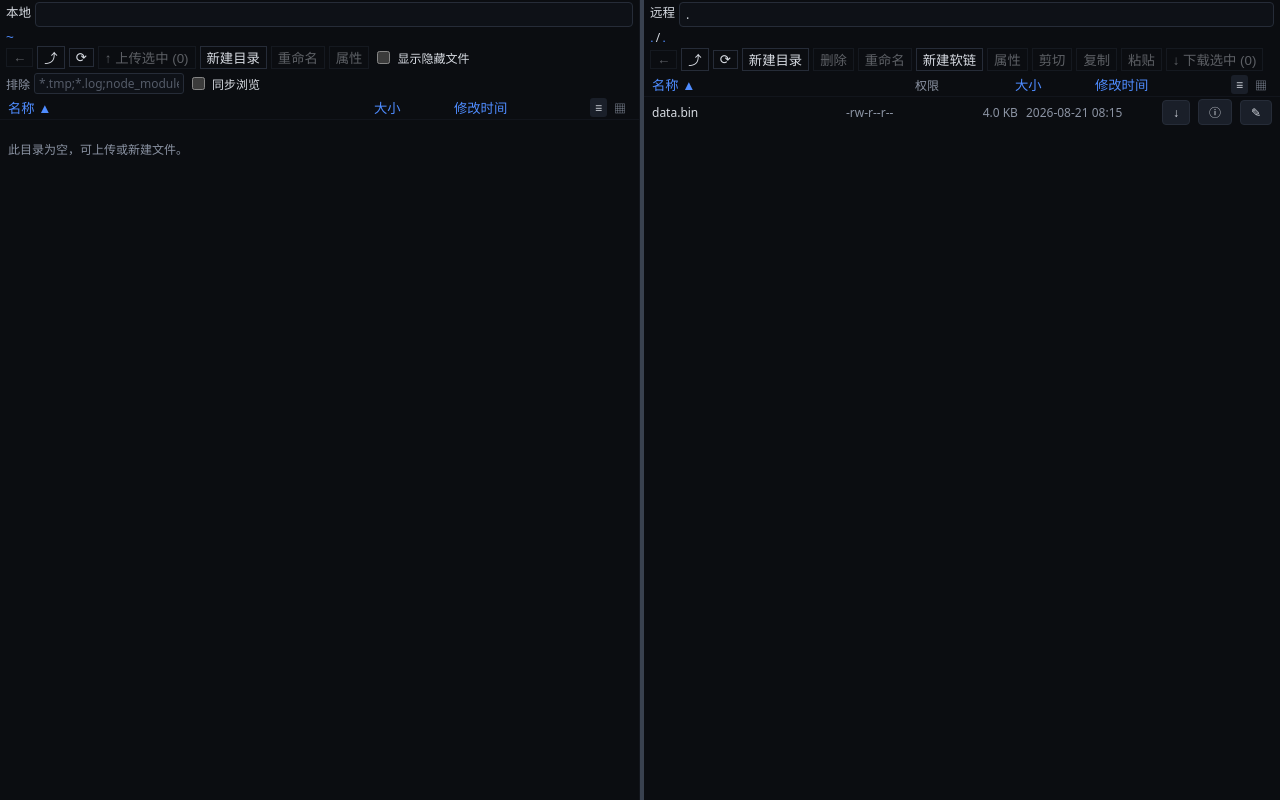
SftpPane 属性对话框与新建软链（M4a） › 属性读取失败：错误显示在对话框内（用户点的是这一项）
This screenshot has width=1280, height=800.
What coordinates should you click on to do the following:
click the option "data.bin -rw-r--r-- 4.0 KB 2026-08-21 08:15 ↓ ⓘ ✎"
I would click on:
 (675, 112)
Its box is [644, 97, 1279, 127].
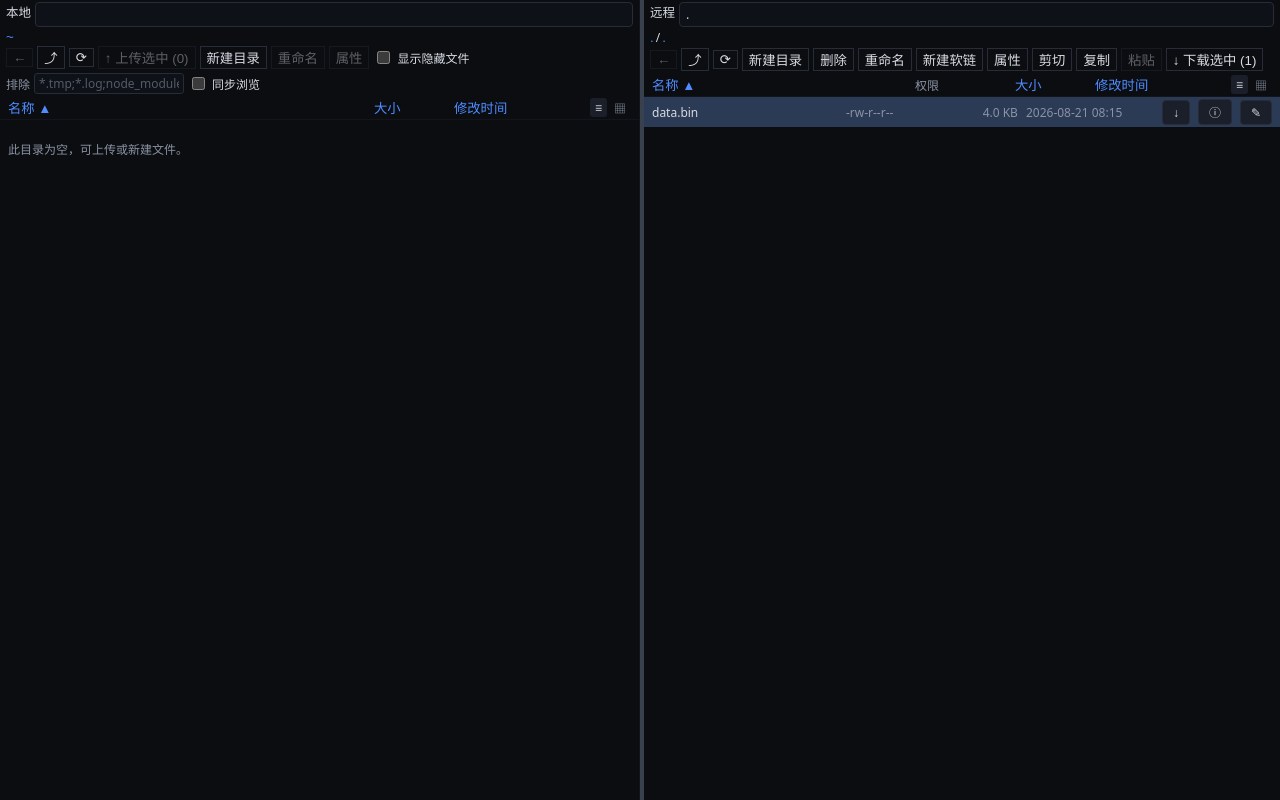
What coordinates should you click on to do the following:
click the button with test id "remote-props"
I would click on:
 (1007, 60)
Its box is [987, 48, 1028, 71].
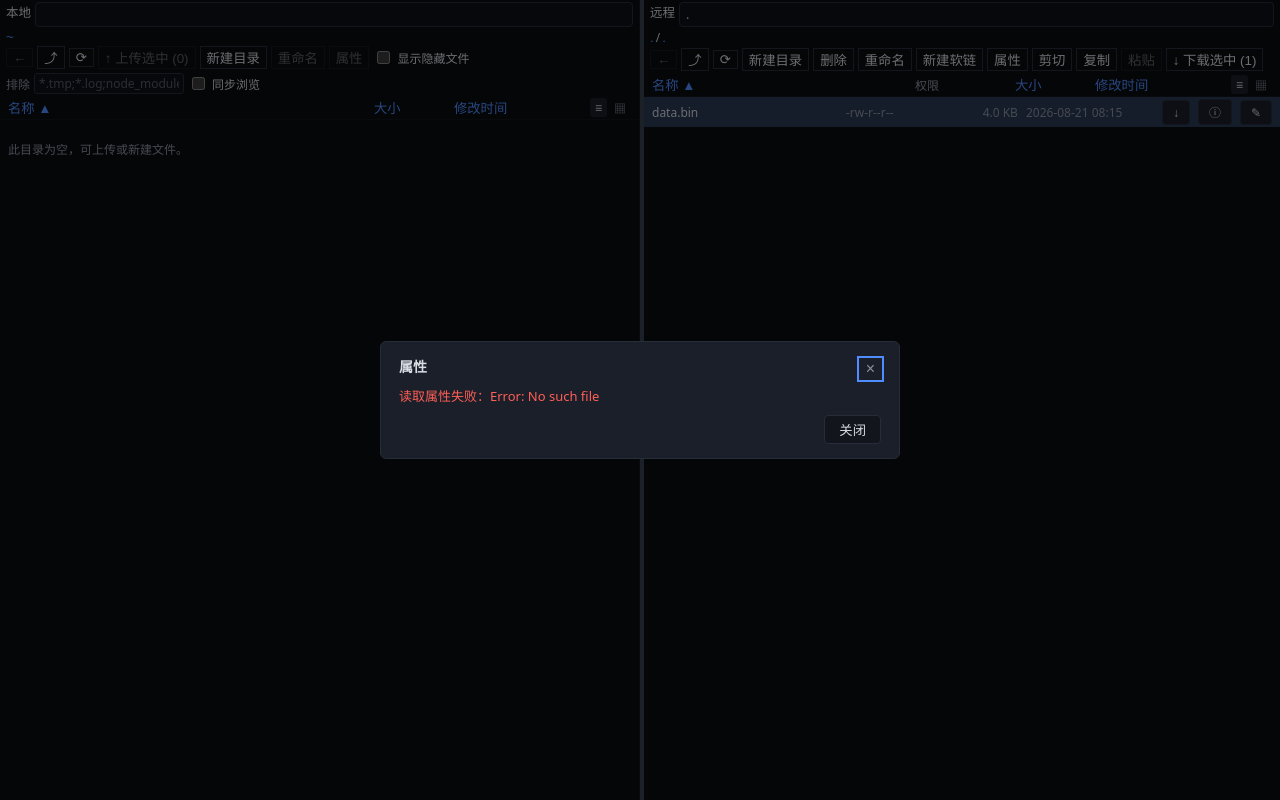
Result: the message with test id "props-error" shows "No such file" at [399, 387, 599, 405]
